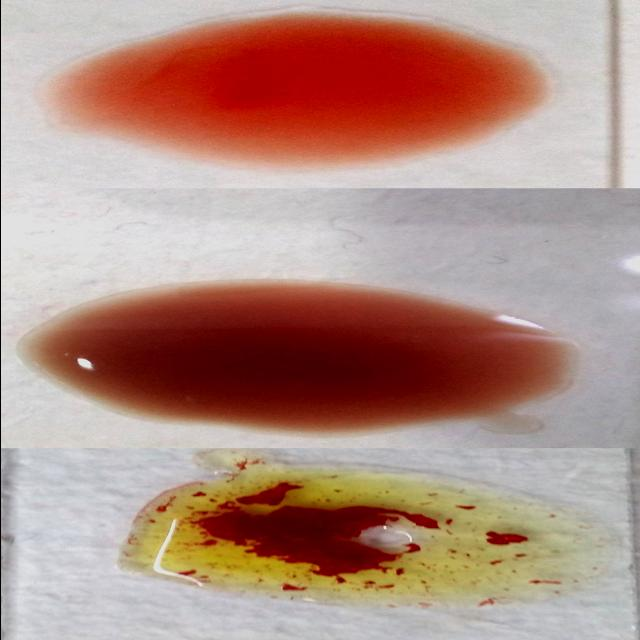B: (142, 477, 582, 598)
